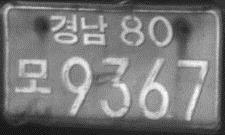0: (148, 14, 173, 48)
3: (98, 56, 132, 118)
6: (137, 56, 171, 122)
7: (175, 57, 210, 123)
8: (119, 12, 146, 47)
9: (60, 55, 93, 118)
경남_O: (48, 12, 108, 47)
모: (13, 57, 53, 95)
